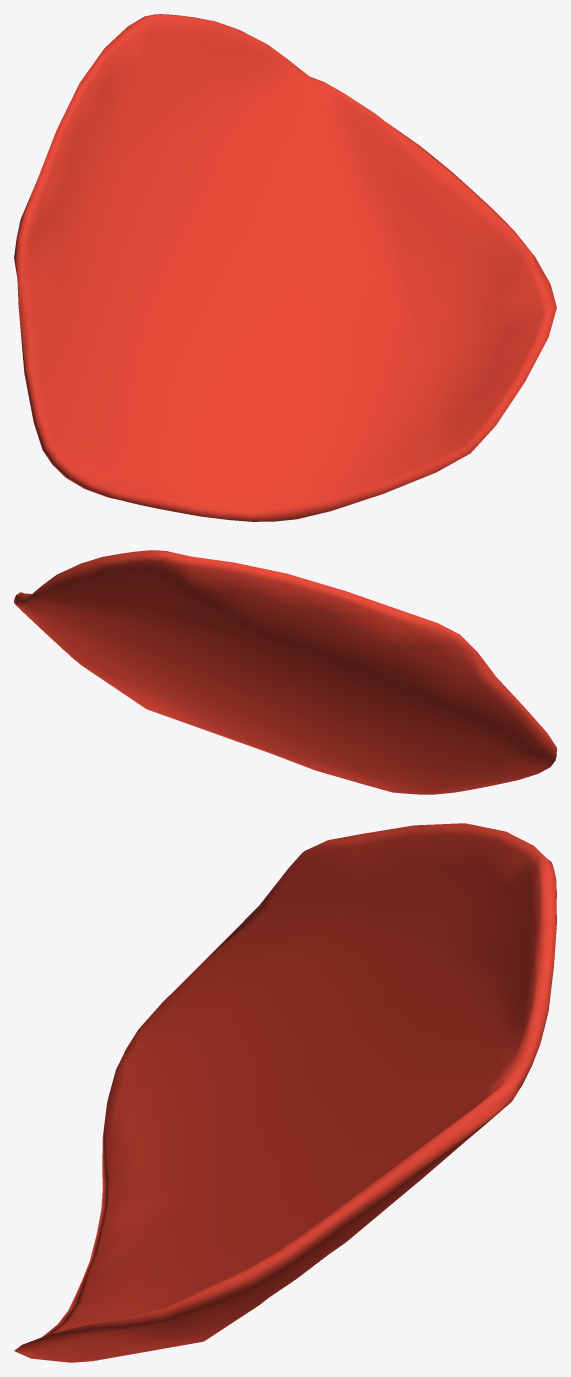
File: Semitendinosus_ischiatic_insertion_left.glb
The picture shows the model from 3 angles, top to bottom: view 1: azimuth 30°, elevation 25°; view 2: azimuth 150°, elevation 25°; view 3: azimuth 270°, elevation 25°; orthographic projection. The views are drawn at different scales.
Visible parts, largest first — view 1: Semitendinosus_muscle-Isciatic_insertion.l_Generated_Mesh_Fr; view 2: Semitendinosus_muscle-Isciatic_insertion.l_Generated_Mesh_Fr; view 3: Semitendinosus_muscle-Isciatic_insertion.l_Generated_Mesh_Fr.
Boxes of the visible parts, bbox=[...] form: Semitendinosus_muscle-Isciatic_insertion.l_Generated_Mesh_Fr: bbox=[14, 14, 556, 521]; Semitendinosus_muscle-Isciatic_insertion.l_Generated_Mesh_Fr: bbox=[14, 550, 556, 794]; Semitendinosus_muscle-Isciatic_insertion.l_Generated_Mesh_Fr: bbox=[14, 823, 556, 1362].
Bounding box in the file's own units: 0.0192 × 0.0129 × 0.0134.
